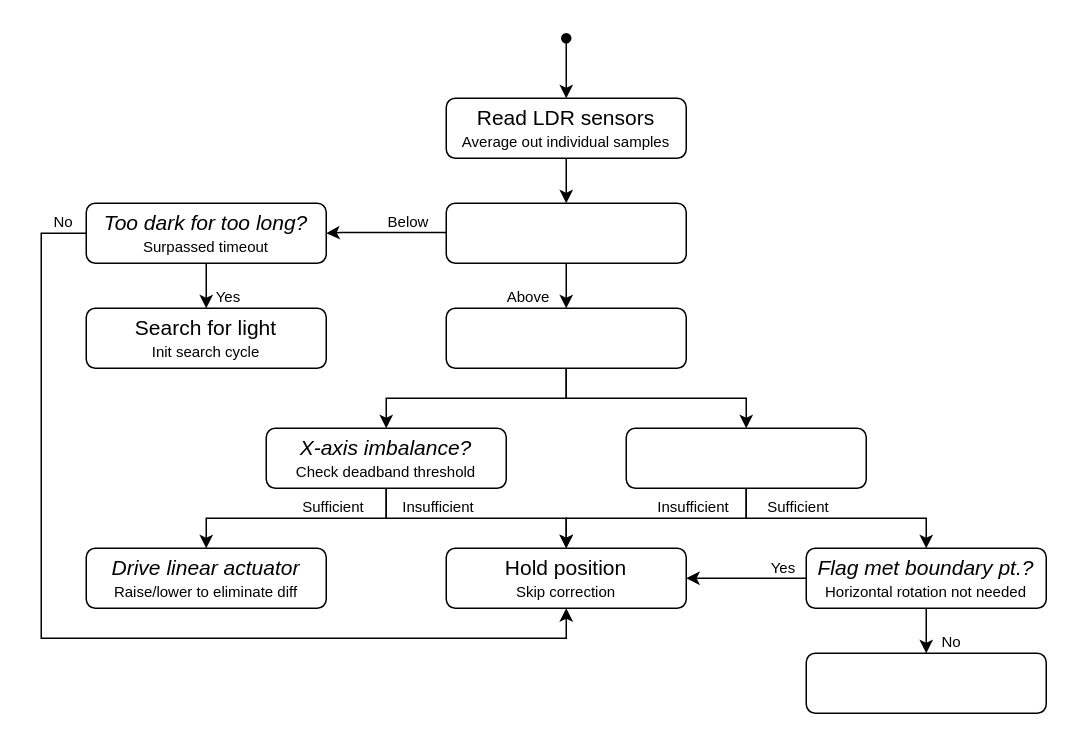
The diagram is 1073 pixels wide and 740 high, and some of its shapes have lost their labels. The shapes that lost their labels are listed below. From the top down, each one's box as (x1, y1, x2, y2) in pixels, then its label:
(445, 202, 686, 263): Average low? Check if light is below threshold
(445, 307, 686, 368): Compute quadrant diffs (top-bottom), (left-right)
(625, 427, 866, 488): Y-axis imbalance? Check deadband threshold
(805, 652, 1046, 713): Drive DC motor Orient horizontally to eliminate diff
